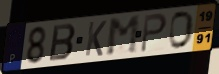8: (25, 25, 48, 65)
B: (47, 23, 78, 63)
K: (83, 19, 108, 58)
M: (106, 14, 141, 59)
O: (168, 10, 195, 51)
P: (139, 12, 169, 55)
